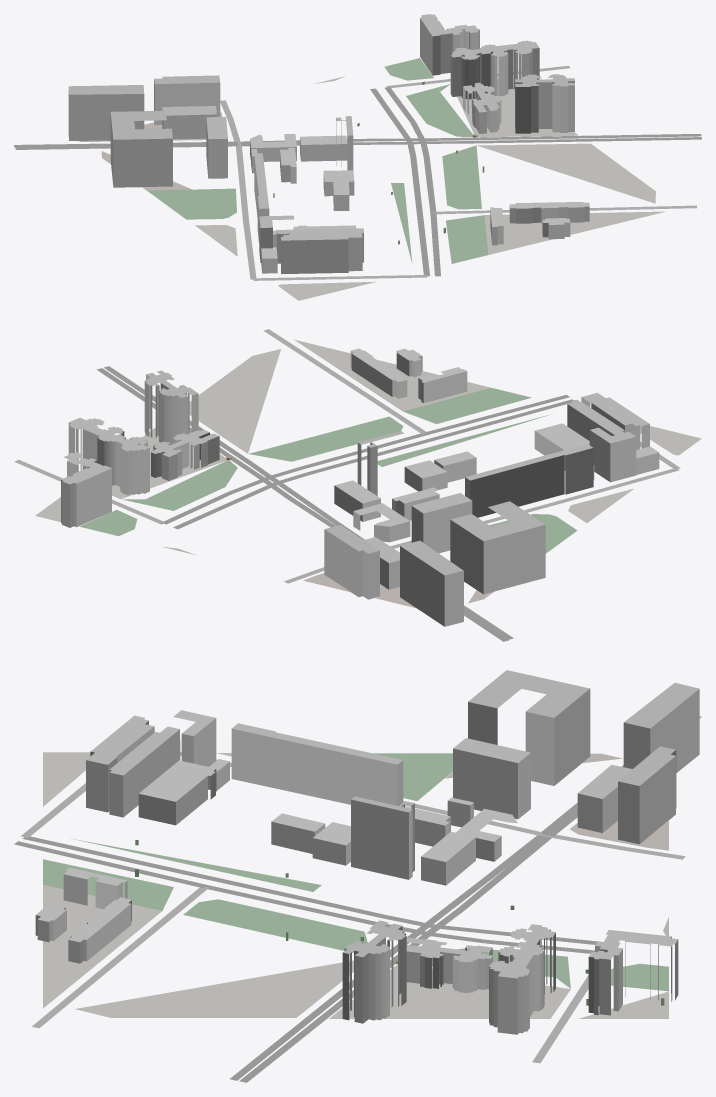
The picture shows the model from 3 angles, top to bottom: view 1: azimuth 30°, elevation 25°; view 2: azimuth 150°, elevation 25°; view 3: azimuth 270°, elevation 25°; orthographic projection. The views are drawn at different scales.
Bounding box in the file's own units: 697 × 61.07 × 550.
